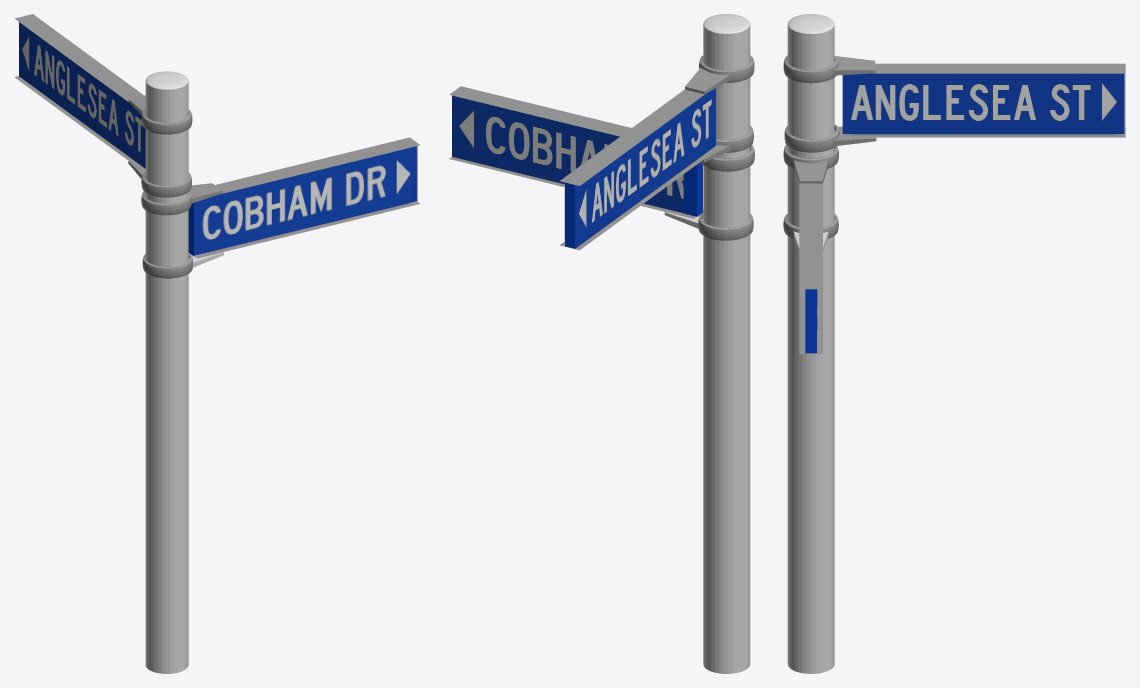
File: StreetSignDemo.fbx
3 views of the same model, side by side, from view 1: azimuth 30°, elevation 25°; view 2: azimuth 150°, elevation 25°; view 3: azimuth 270°, elevation 25° (orthographic). The views are drawn at different scales.
Visible parts, largest first — view 1: StreetPole, Plane.001, Plane, SignTop.001, SignTop, SignBottom.001, Torus, Torus.002, Torus.003, Torus.001, StreetPoleTop, SignBottom; view 2: StreetPole, Plane.002, Plane, SignTop, SignTop.001, SignName.001, Torus.003, SignBottom, StreetPoleTop, SignAttachment, SignName, Torus.002 (+2 smaller); view 3: StreetPole, SignNameRight, SignTop, SignTop.001, SignBottom, SignBottom.001, Torus.001, Torus, SignName.001, StreetPoleTop, SignAttachment, SignAttachment.002 (+1 smaller).
Part boxes in pixels (<box>): StreetPole: <box>145,77,188,673</box>; Plane.001: <box>194,146,417,256</box>; Plane: <box>19,22,145,168</box>; SignTop.001: <box>215,137,420,193</box>; SignTop: <box>14,14,143,102</box>; SignBottom.001: <box>195,202,420,258</box>; Torus: <box>141,109,192,134</box>; Torus.002: <box>141,191,191,215</box>; Torus.003: <box>142,253,192,278</box>; Torus.001: <box>141,172,191,197</box>; StreetPoleTop: <box>145,71,188,89</box>; SignBottom: <box>14,76,145,171</box>; StreetPole: <box>703,20,750,673</box>; Plane.002: <box>452,95,683,213</box>; Plane: <box>575,88,716,248</box>; SignTop: <box>559,89,704,185</box>; SignTop.001: <box>449,86,631,136</box>; SignName.001: <box>683,162,702,216</box>; Torus.003: <box>698,212,753,240</box>; SignBottom: <box>560,146,720,250</box>; StreetPoleTop: <box>703,14,749,33</box>; SignAttachment: <box>685,67,730,94</box>; SignName: <box>565,182,575,248</box>; Torus.002: <box>700,145,754,171</box>; StreetPole: <box>787,21,834,673</box>; SignNameRight: <box>842,73,1124,135</box>; SignTop: <box>872,63,1125,73</box>; SignTop.001: <box>799,183,822,289</box>; SignBottom: <box>843,128,1125,137</box>; SignBottom.001: <box>799,289,822,353</box>; Torus.001: <box>784,124,839,152</box>; Torus: <box>783,55,838,83</box>; SignName.001: <box>805,289,816,353</box>; StreetPoleTop: <box>788,14,834,33</box>; SignAttachment: <box>832,56,875,75</box>; SignAttachment.002: <box>794,160,828,183</box>.
Size of the model in its own units: 145 by 301 by 145.
